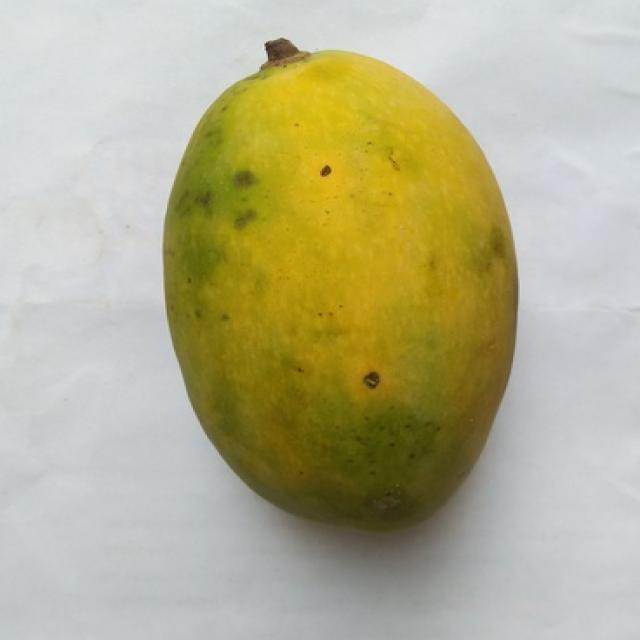Mango: (163, 40, 517, 527)
